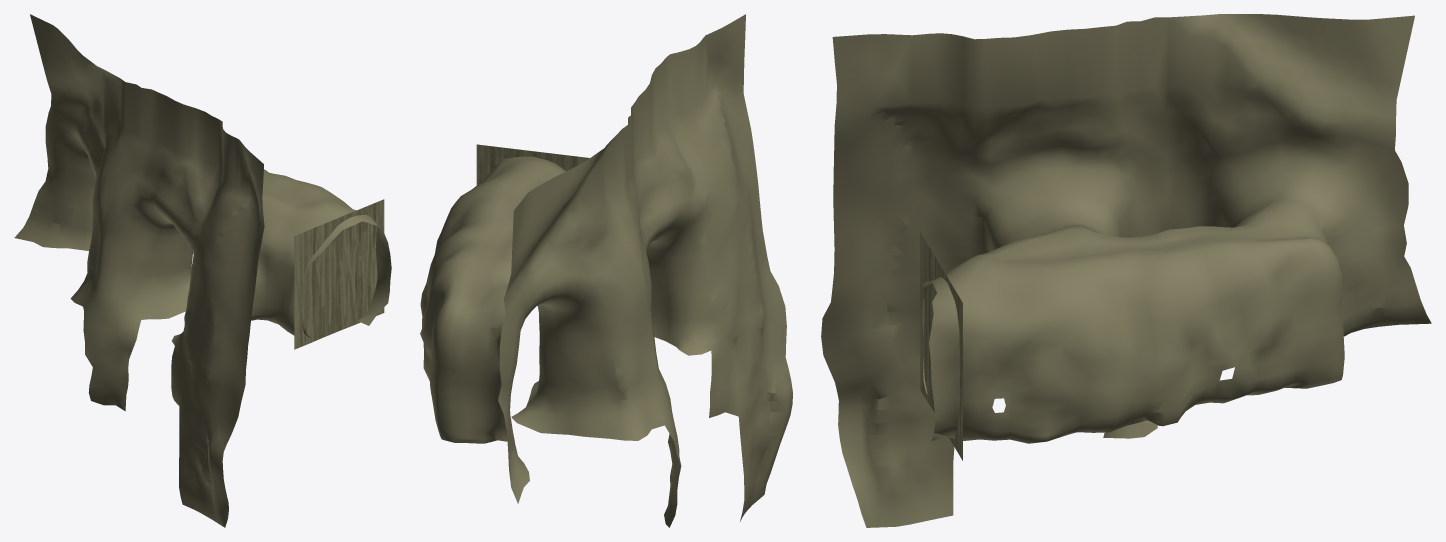
The model's file is SM_ENV_KNFRST_MassiveTree_COL.FBX.
3 renders of one model, left to right at view 1: azimuth 30°, elevation 25°; view 2: azimuth 150°, elevation 25°; view 3: azimuth 270°, elevation 25°, orthographic. The views are drawn at different scales.
Parts seen in each view (by area): view 1: SM_ENV_KNFRST_MassiveTree_COL; view 2: SM_ENV_KNFRST_MassiveTree_COL; view 3: SM_ENV_KNFRST_MassiveTree_COL.
Boxes of the visible parts, <box> form: SM_ENV_KNFRST_MassiveTree_COL: <box>14,14,391,527</box>; SM_ENV_KNFRST_MassiveTree_COL: <box>420,14,792,527</box>; SM_ENV_KNFRST_MassiveTree_COL: <box>821,14,1431,527</box>.
Size of the model in its own units: 3927 by 6001 by 6468.
